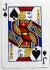jack: (1, 1, 49, 67)
